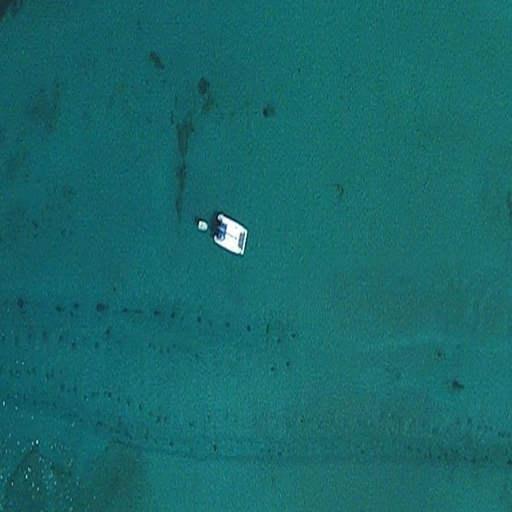ship: (194, 211, 249, 257)
